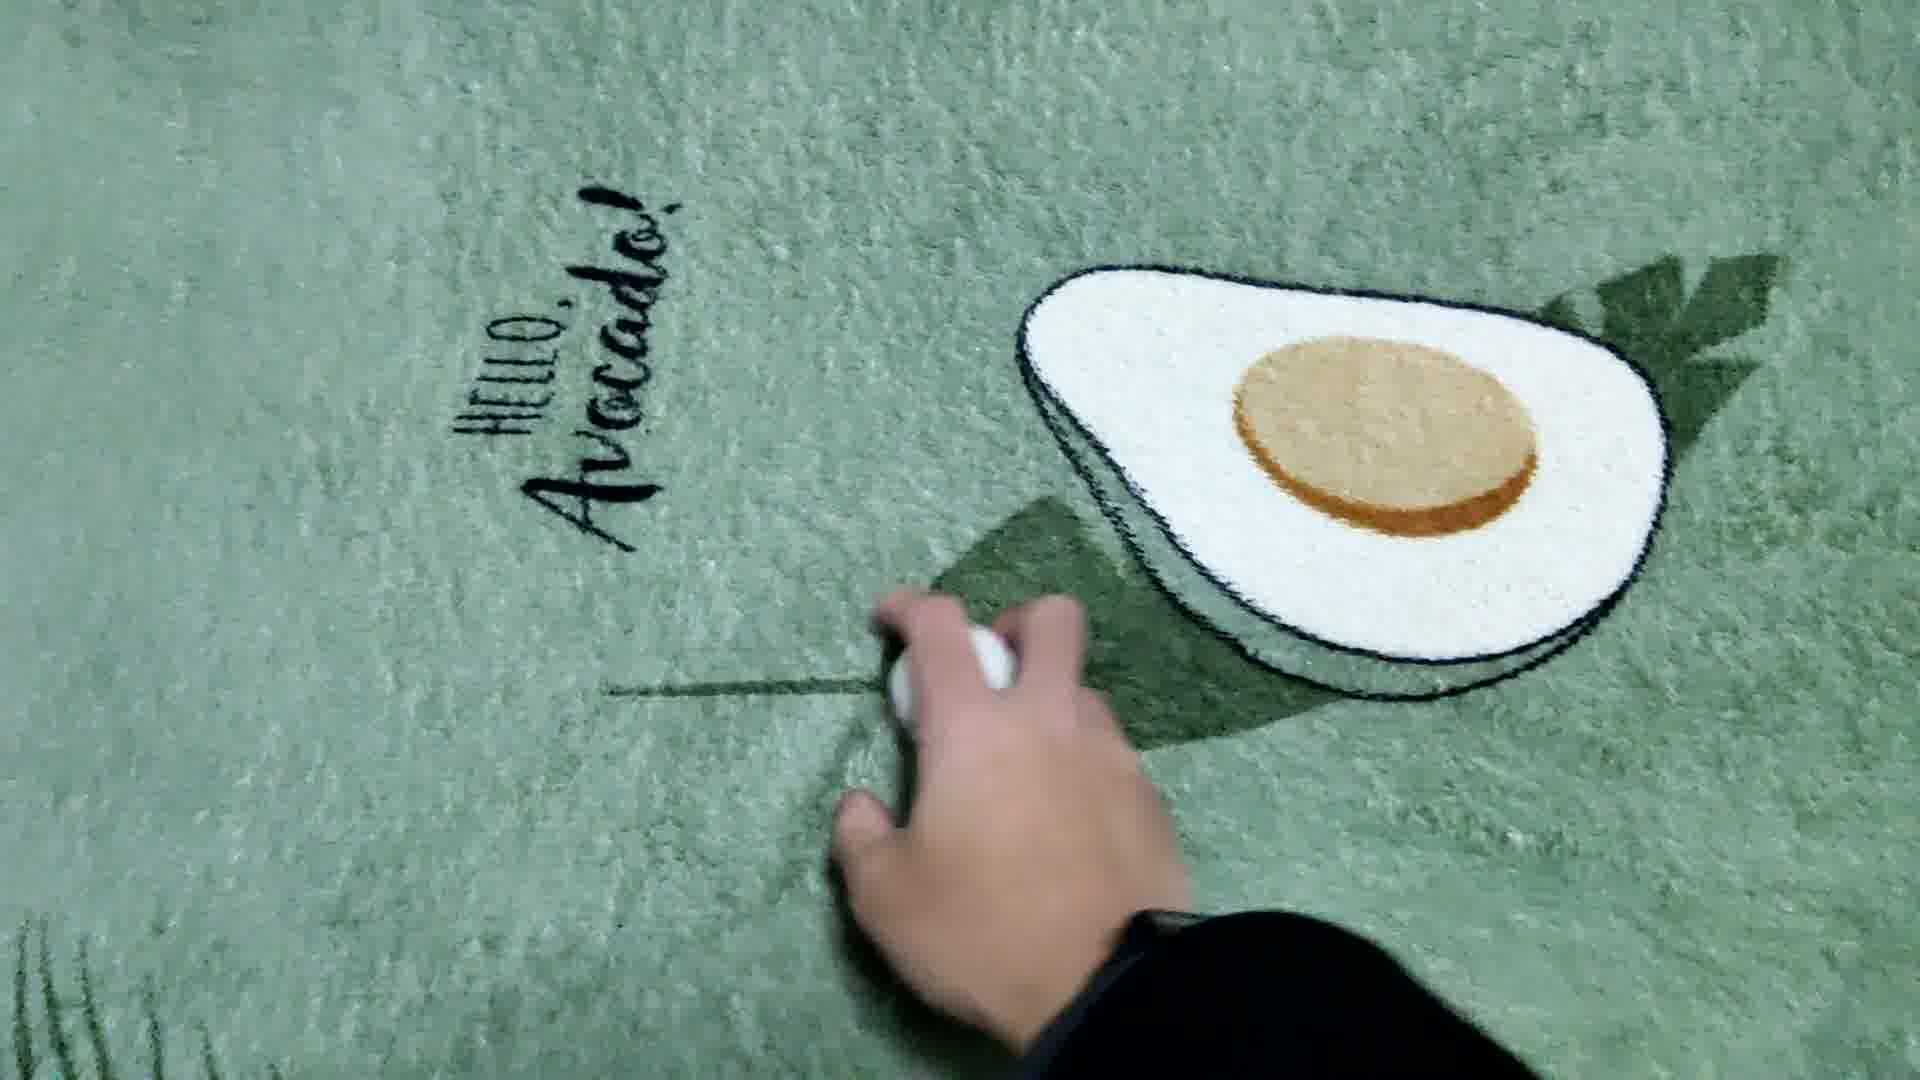Ball: (891, 626, 1025, 761)
